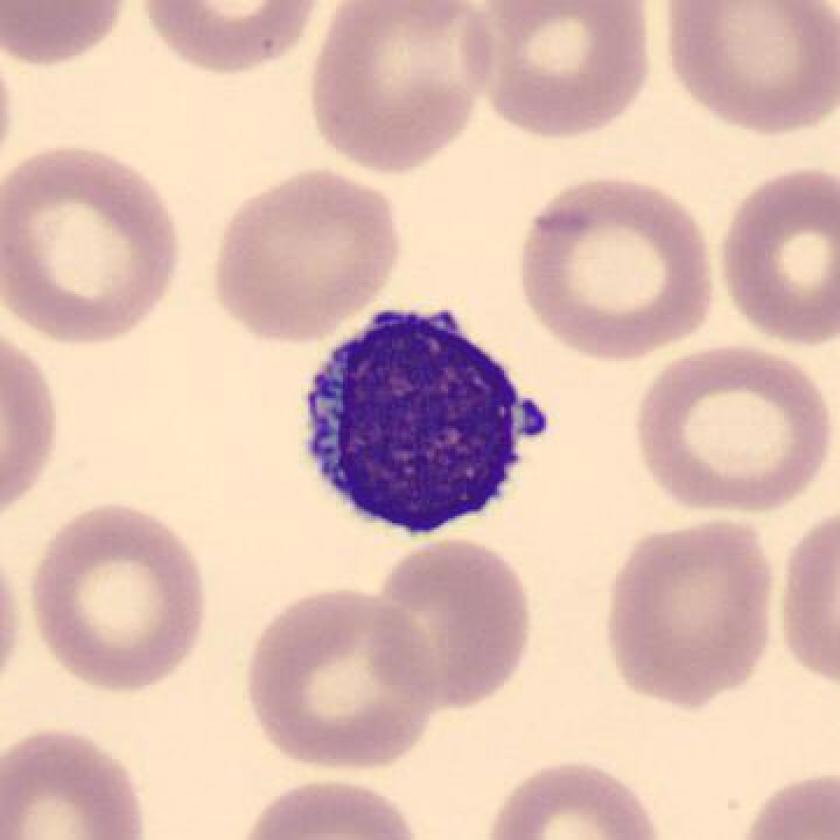lymphocyte: (286, 293, 554, 552)
